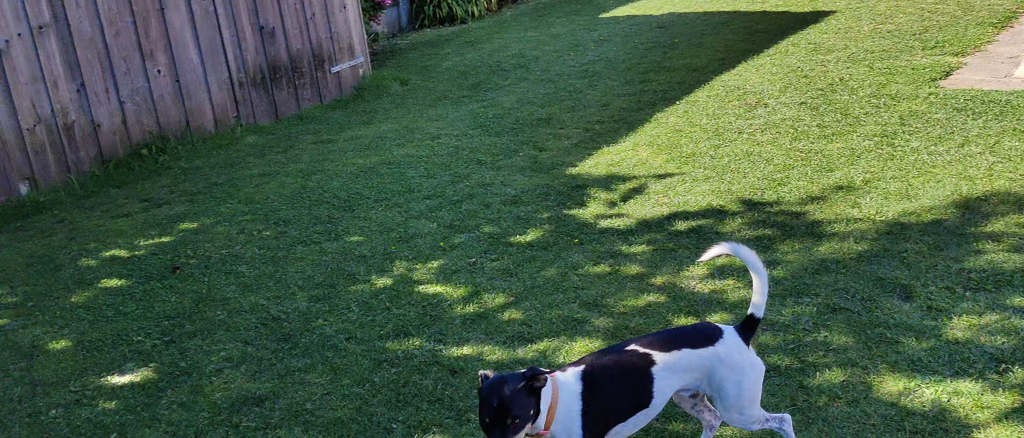Dog: (466, 228, 801, 438)
